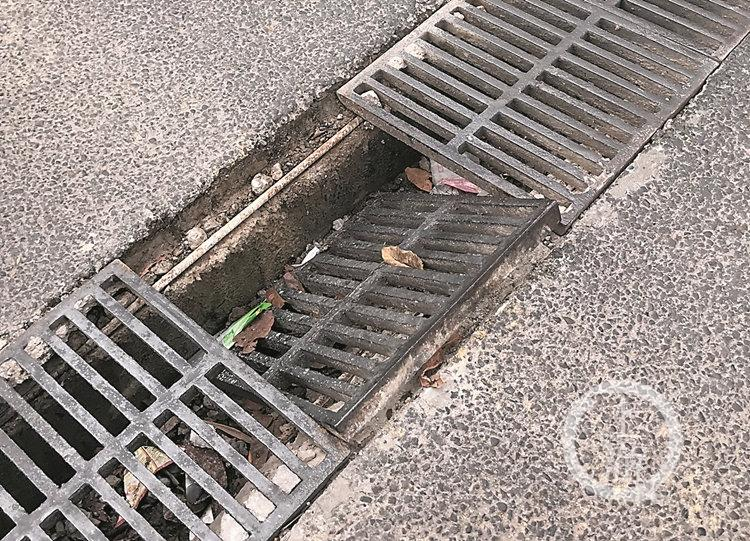wellcover: (145, 92, 560, 454)
